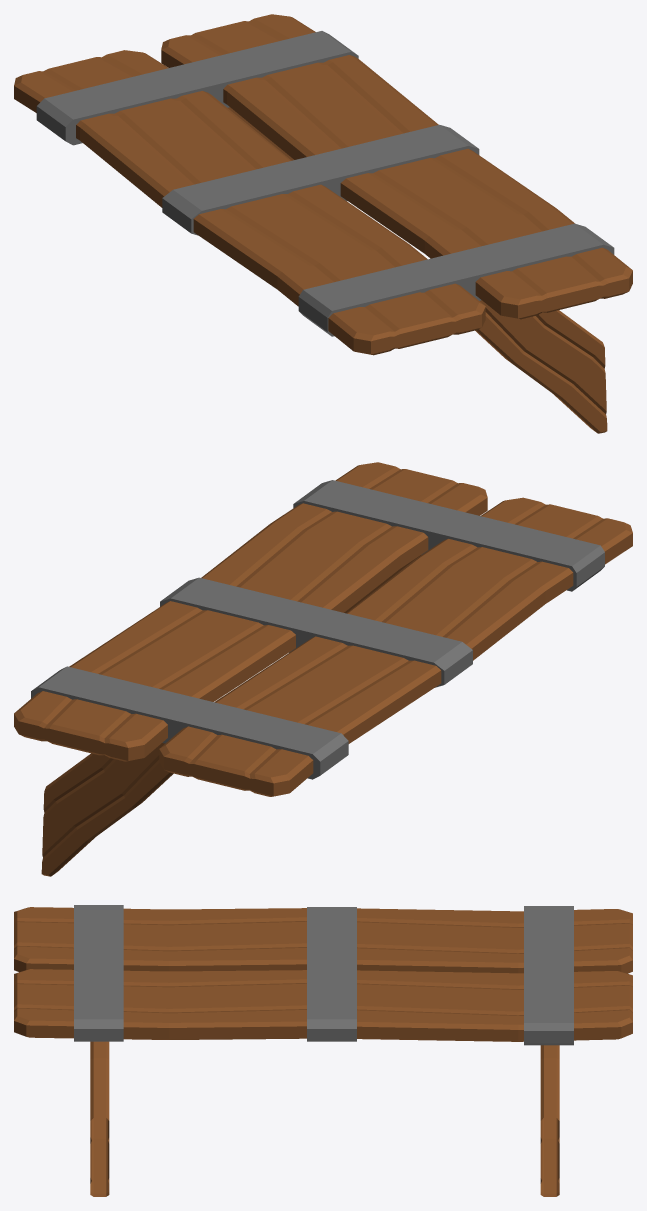
Rendered from platform.fbx.
3 views of the same model, one above another, from view 1: azimuth 30°, elevation 25°; view 2: azimuth 150°, elevation 25°; view 3: azimuth 270°, elevation 25° (orthographic). The views are drawn at different scales.
Parts seen in each view (by area): view 1: Plane.001; view 2: Plane.001; view 3: Plane.001.
Boxes of the visible parts, box(x1,y1,x2,y2) form: Plane.001: box(14, 14, 632, 433); Plane.001: box(14, 462, 632, 876); Plane.001: box(14, 905, 632, 1196).
Bounding box in the file's own units: 168 × 109 × 356.
